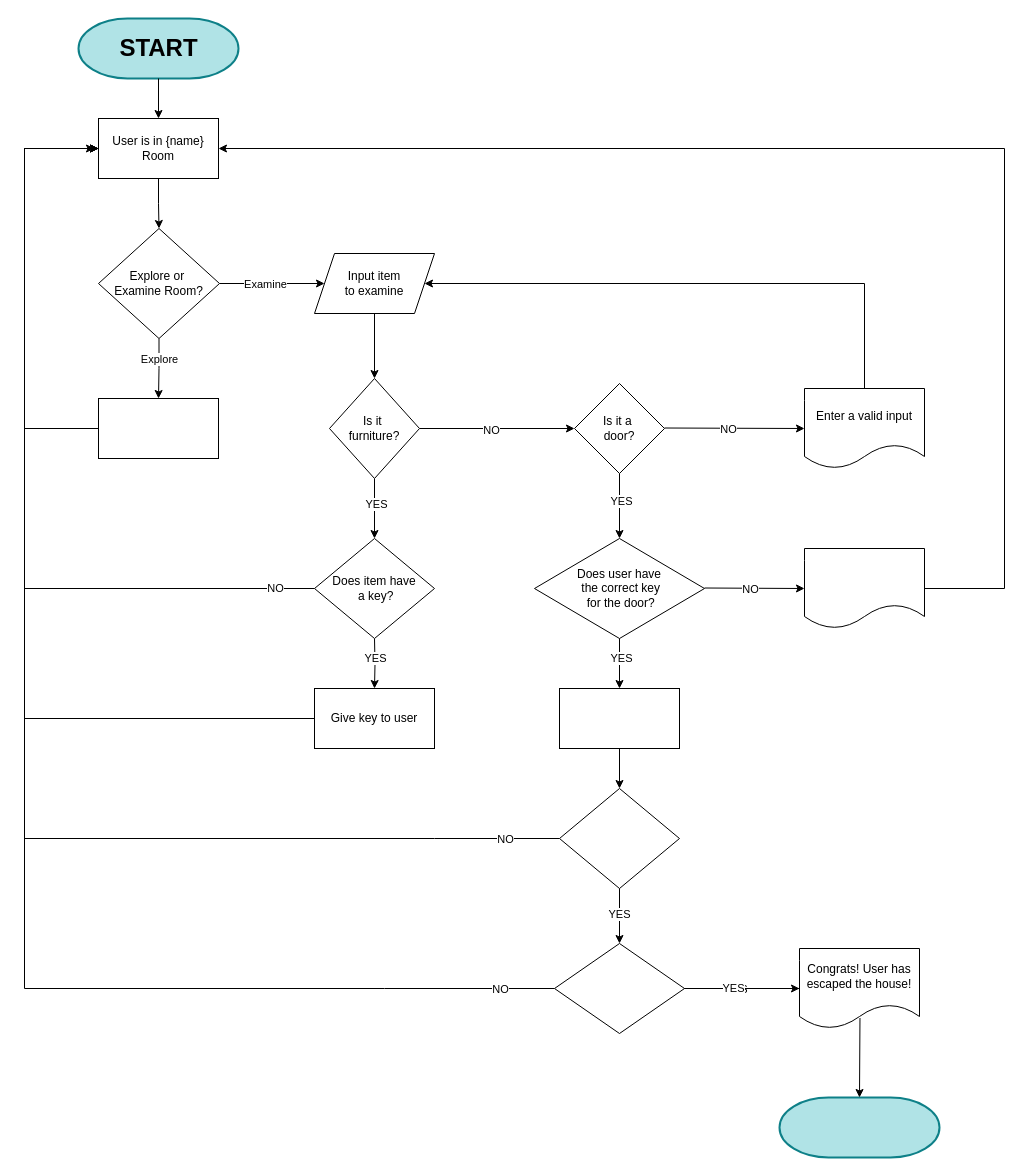
Image size: 1030x1175. Some labels were removed from this diagram. The shapes that lost their labels are listed below. From the top down, each one's centre as x and y in pixels, then its label:
At (x=158, y=428): "List objects in Room".
At (x=864, y=588): "User doesn´t have the key".
At (x=619, y=718): "Open the door".
At (x=619, y=838): "Does user enter the room?".
At (x=619, y=988): "Is it outside?".
At (x=859, y=1127): "END".
